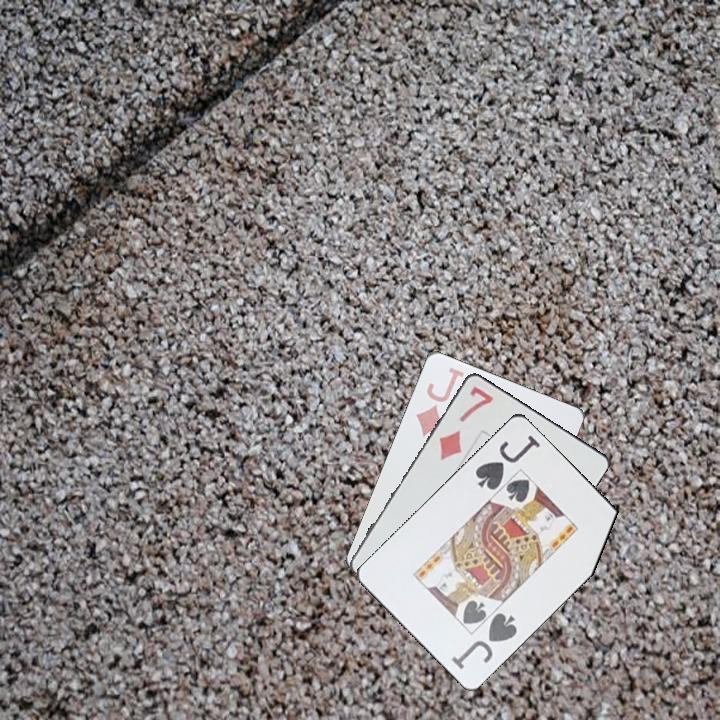7d: (436, 382, 496, 463)
Jd: (412, 363, 466, 440)
Js: (447, 609, 520, 672), (472, 431, 543, 493)
